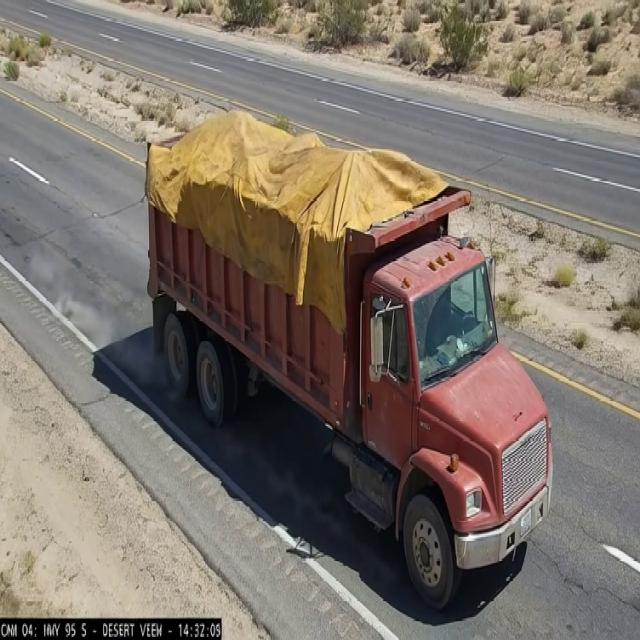Box: (148, 127, 472, 250)
Truck: (139, 86, 559, 594)
